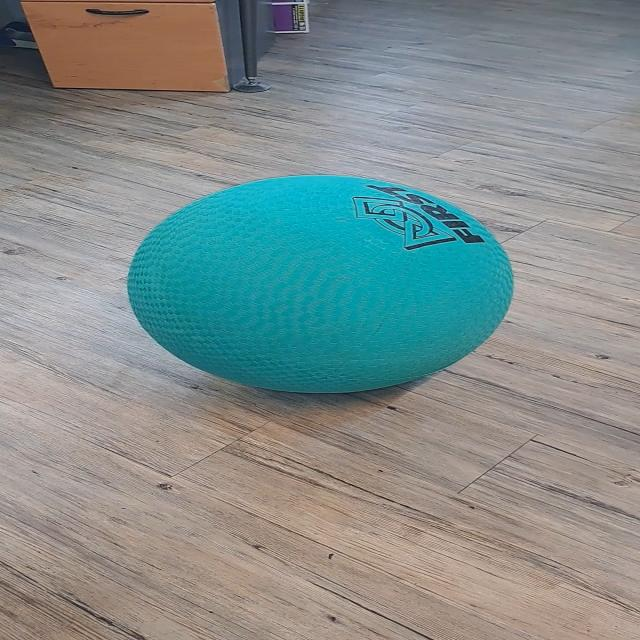ALGAE: (124, 173, 516, 395)
